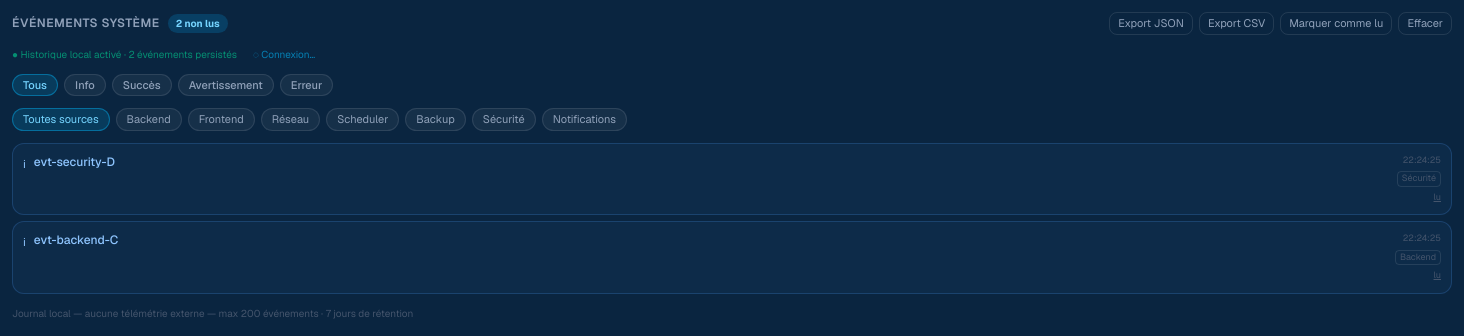
Test: SystemEventsPanel — filtrage › filtre par source security — seuls les événements security sont affichés
Expected: the text "evt-security-D" is shown, [34,154,115,170]
Step 1. Click the button "Sécurité" → coordinates (504, 119), box [472,108,536,130]
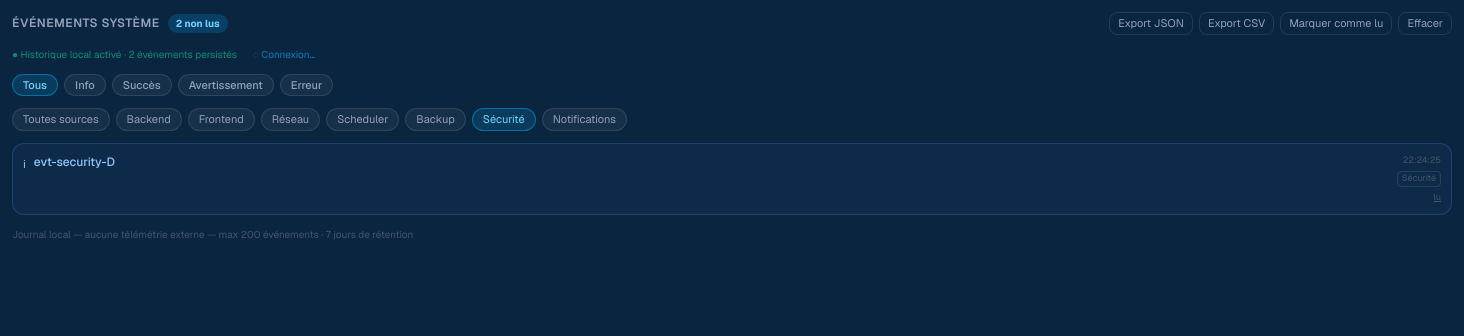
Expected: the text "evt-security-D" is shown, [34,154,115,170]
Now the text "evt-backend-C" is gone
